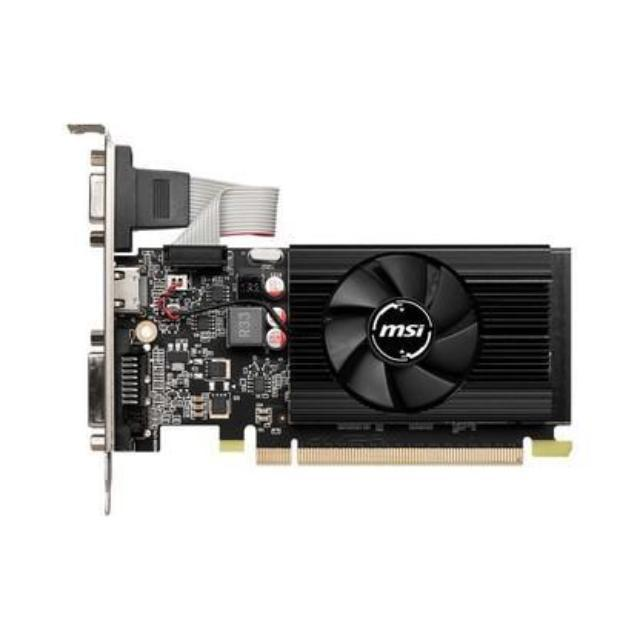GPU: (87, 218, 584, 486)
